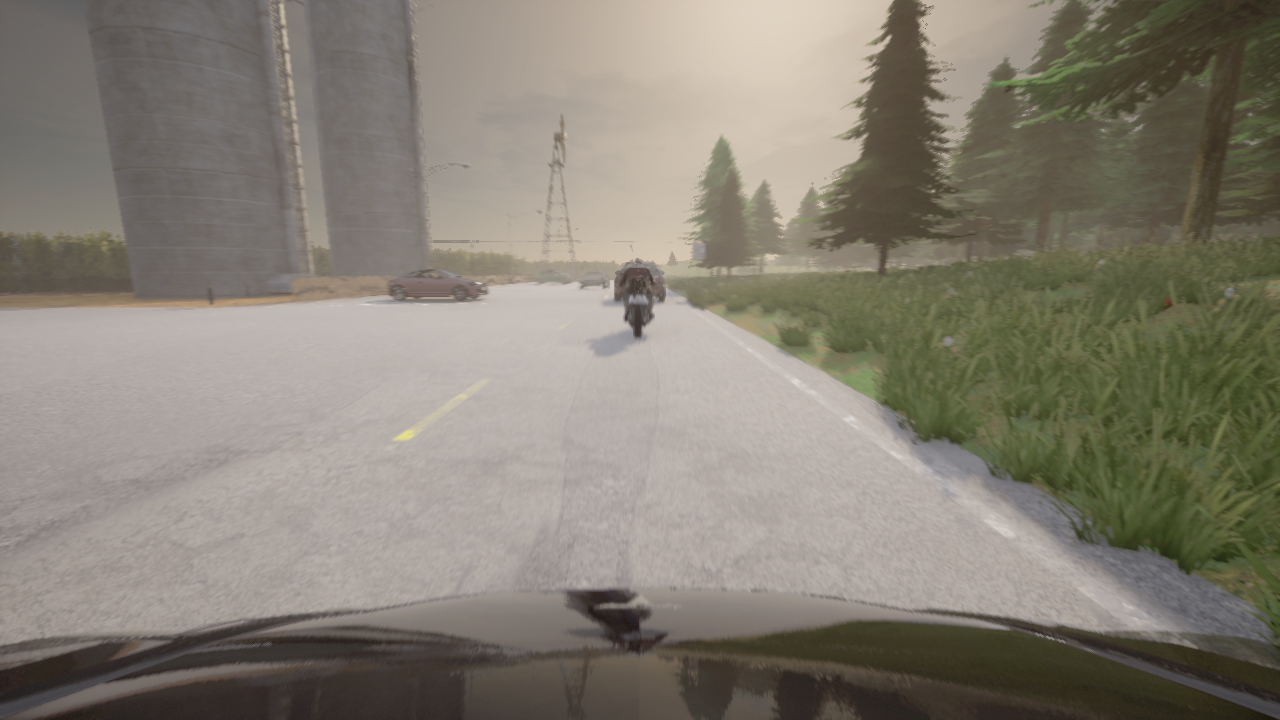cyclist: (0, 588, 1279, 719), (387, 269, 488, 300), (618, 274, 657, 337), (614, 262, 663, 301), (578, 269, 608, 289), (535, 270, 571, 283), (547, 269, 570, 275)
